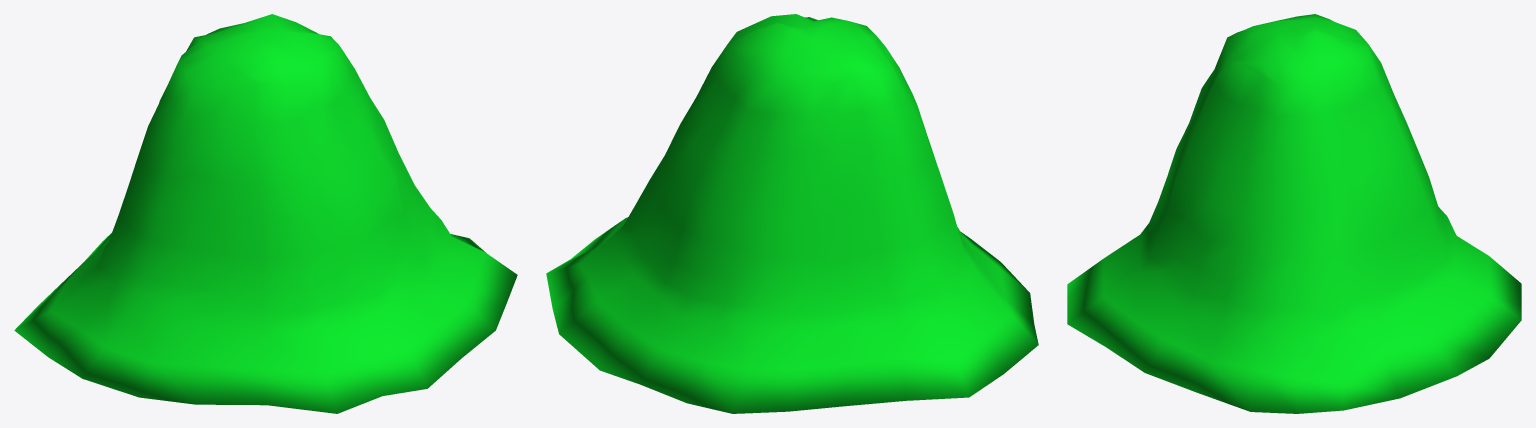
The model's file is hill.glb.
3 views of the same model, side by side, from view 1: azimuth 30°, elevation 25°; view 2: azimuth 150°, elevation 25°; view 3: azimuth 270°, elevation 25° (orthographic). The views are drawn at different scales.
Visible parts, largest first — view 1: Hill; view 2: Hill; view 3: Hill.
Part boxes in pixels (<box>): Hill: <box>14,14,517,413</box>; Hill: <box>546,14,1038,413</box>; Hill: <box>1067,14,1521,413</box>.
Size of the model in its own units: 12.03 by 7.81 by 11.24.
